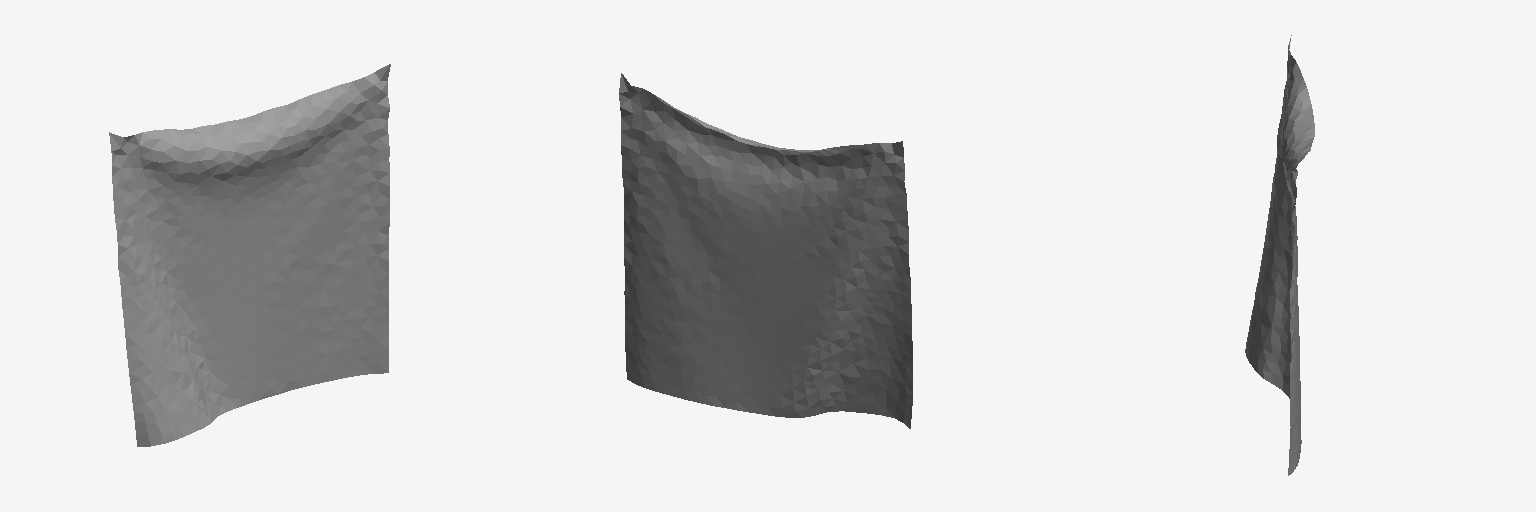
File: tissue1.obj
3 views of the same model, side by side, from view 1: azimuth 30°, elevation 25°; view 2: azimuth 150°, elevation 25°; view 3: azimuth 270°, elevation 25° (orthographic).
Parts seen in each view (by area): view 1: 3_Visual.003; view 2: 3_Visual.003; view 3: 3_Visual.003.
Boxes of the visible parts, x1,y1,x2,y2 form: 3_Visual.003: [109, 64, 390, 446]; 3_Visual.003: [619, 73, 912, 428]; 3_Visual.003: [1245, 35, 1314, 475].
Size of the model in its own units: 10 by 10.42 by 2.14.